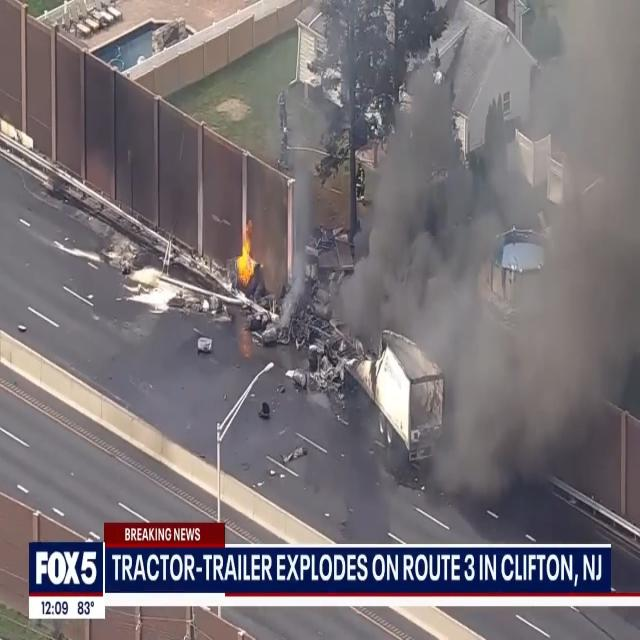fire: (230, 217, 258, 286)
